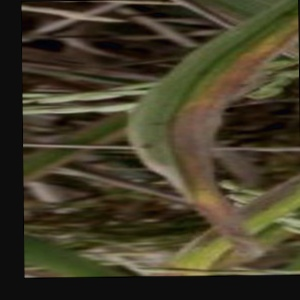Leaf_Blast: (132, 41, 232, 201)
